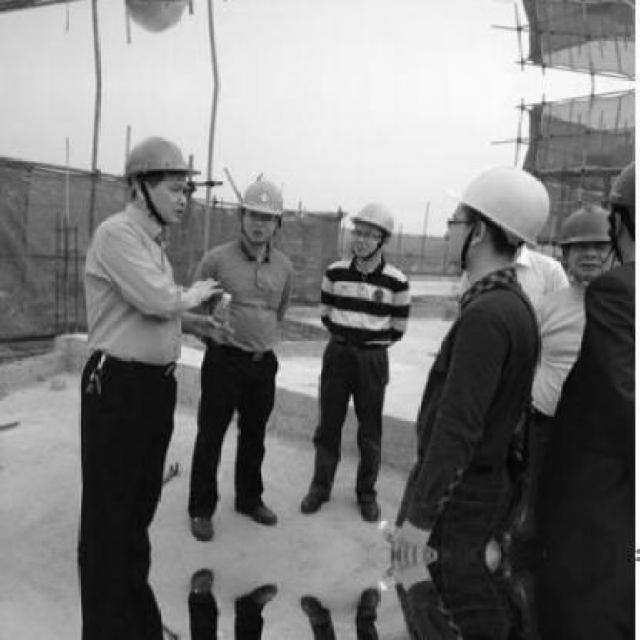helmet: (438, 160, 554, 278), (118, 135, 196, 220), (552, 208, 622, 295), (232, 171, 291, 249), (606, 157, 639, 271), (349, 197, 397, 260), (118, 0, 196, 35)
